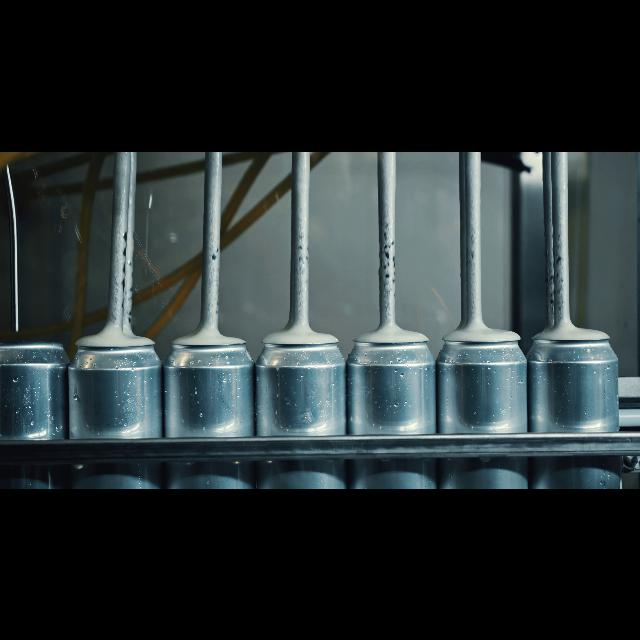empty: (1, 332, 70, 488)
full: (534, 317, 620, 488), (262, 318, 348, 488), (353, 317, 437, 488), (168, 324, 255, 488), (76, 324, 162, 488), (444, 316, 526, 488)
